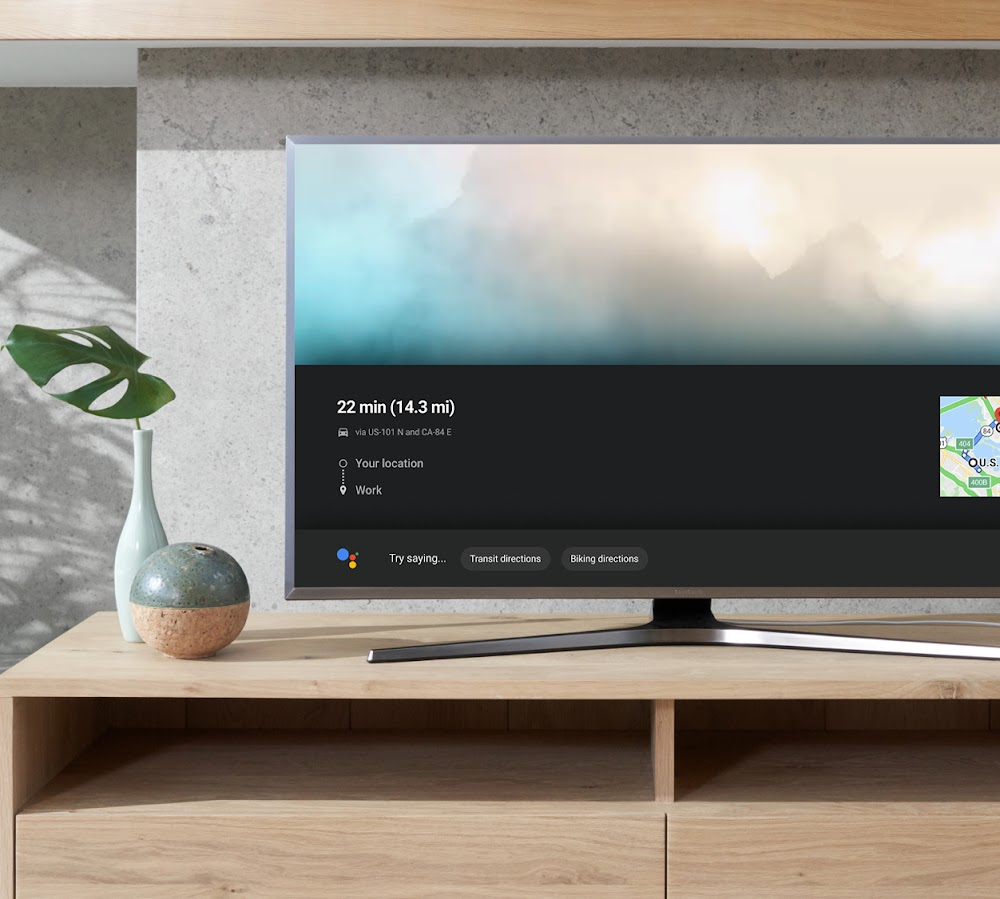tv: (279, 125, 1000, 668)
